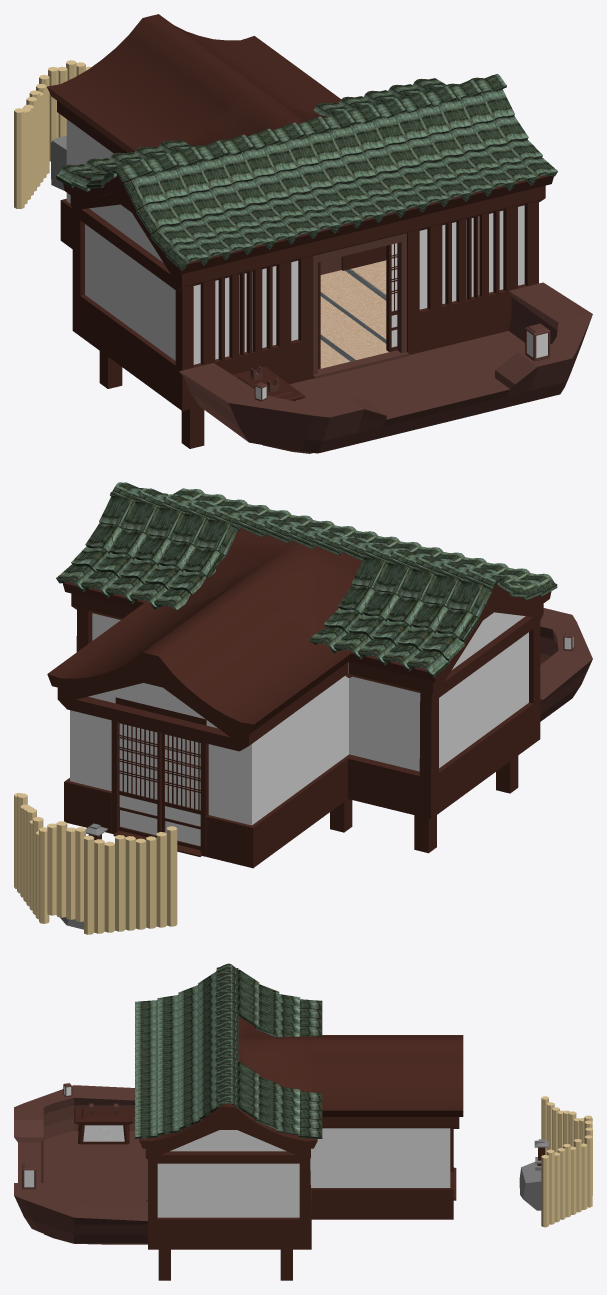
The model's file is JapaneseArcheryHouse.fbx.
The picture shows the model from 3 angles, top to bottom: view 1: azimuth 30°, elevation 25°; view 2: azimuth 150°, elevation 25°; view 3: azimuth 270°, elevation 25°; orthographic projection. The views are drawn at different scales.
Visible parts, largest first — view 1: House1.002, Roof2.002, Cube.033, Decoration2.004, Decoration1.006, RoofTiles1.024, RoofTiles2.016, RoofSupport.006, RoofTiles3.016, RoofTiles4.016, DoorPlatform.003, RoofTilesTop.016 (+12 smaller); view 2: Roof2.002, House1.002, Decoration3.004, RoofTilesSide1.008, RoofTilesSide1.009, RoofSupport.006, BambooWall3.004, Door2.007, RoofTilesTop.016, Cube.033, RoofTiles4.016, BambooWall1.004 (+7 smaller); view 3: House1.002, Roof2.002, Decoration4.002, Cube.033, DoorPlatform.003, RoofSupport.006, RoofTilesSide1.009, BambooWall1.004, RoofTilesSide1.008, RoofTiles4.016, RoofTilesTop.016, RoofTiles3.016 (+8 smaller).
Boxes of the visible parts, <box> form: House1.002: <box>66,119,524,378</box>; Roof2.002: <box>47,14,340,198</box>; Cube.033: <box>179,282,592,453</box>; Decoration2.004: <box>407,200,538,354</box>; Decoration1.006: <box>175,255,313,410</box>; RoofTiles1.024: <box>123,89,514,210</box>; RoofTiles2.016: <box>136,116,528,234</box>; RoofSupport.006: <box>57,101,545,290</box>; RoofTiles3.016: <box>150,139,542,254</box>; RoofTiles4.016: <box>165,157,557,270</box>; DoorPlatform.003: <box>263,331,525,453</box>; RoofTilesTop.016: <box>110,74,506,183</box>; Roof2.002: <box>47,528,492,734</box>; House1.002: <box>70,612,528,825</box>; Decoration3.004: <box>206,691,533,868</box>; RoofTilesSide1.008: <box>309,557,491,677</box>; RoofTilesSide1.009: <box>56,495,236,609</box>; RoofSupport.006: <box>57,593,543,751</box>; BambooWall3.004: <box>84,826,177,934</box>; Door2.007: <box>119,722,208,850</box>; RoofTilesTop.016: <box>110,482,505,591</box>; Cube.033: <box>540,608,592,721</box>; RoofTiles4.016: <box>173,488,557,596</box>; BambooWall1.004: <box>14,793,49,923</box>; House1.002: <box>146,1128,450,1217</box>; Roof2.002: <box>228,972,463,1148</box>; Decoration4.002: <box>157,1159,453,1249</box>; Cube.033: <box>14,1085,147,1243</box>; DoorPlatform.003: <box>43,1131,147,1244</box>; RoofSupport.006: <box>145,1117,459,1163</box>; RoofTilesSide1.009: <box>237,1062,322,1138</box>; BambooWall1.004: <box>541,1135,592,1227</box>; RoofTilesSide1.008: <box>237,969,322,1036</box>; RoofTiles4.016: <box>135,1000,159,1138</box>; RoofTilesTop.016: <box>216,963,238,1107</box>; RoofTiles3.016: <box>157,995,181,1135</box>.
Size of the model in its own units: 887 by 564 by 1553.
